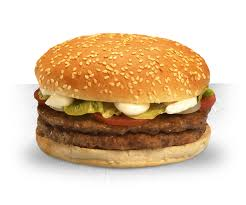hamburger: (32, 32, 218, 171)
